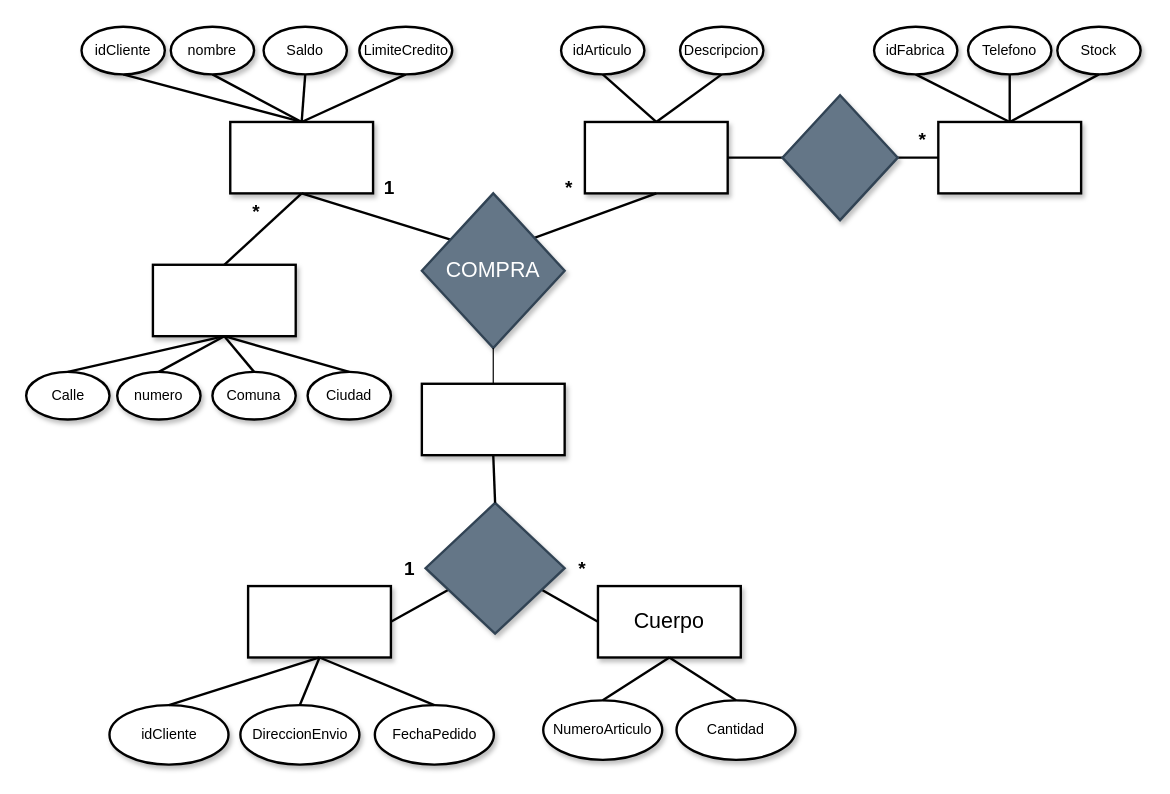
The diagram is 1170 pixels wide and 794 high, and some of its shapes have lost their labels. The shapes that lost their labels are listed below. From the top down, each one's centre as x and y in pixels, then its label:
[302,158]: Cliente
[656,158]: Articulo
[840,159]: Provee
[1010,158]: Fabrica
[224,301]: Direccion
[493,420]: Pedido
[495,569]: Componer
[320,623]: Cabecera
